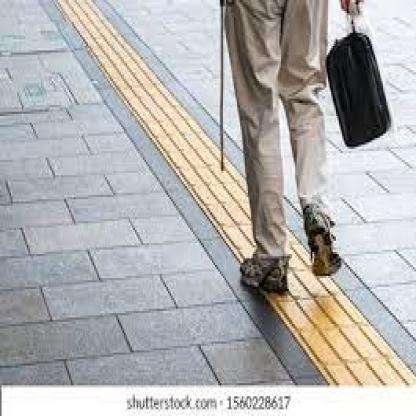podotacti: (28, 0, 415, 387)
